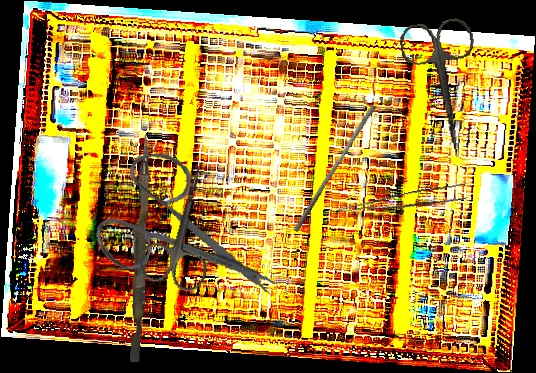Iris Scissors: (87, 140, 281, 315), (133, 152, 236, 296), (397, 16, 492, 163)
Pusher: (293, 101, 377, 236), (130, 133, 150, 363)
Tissue Forceps: (334, 179, 471, 228)
